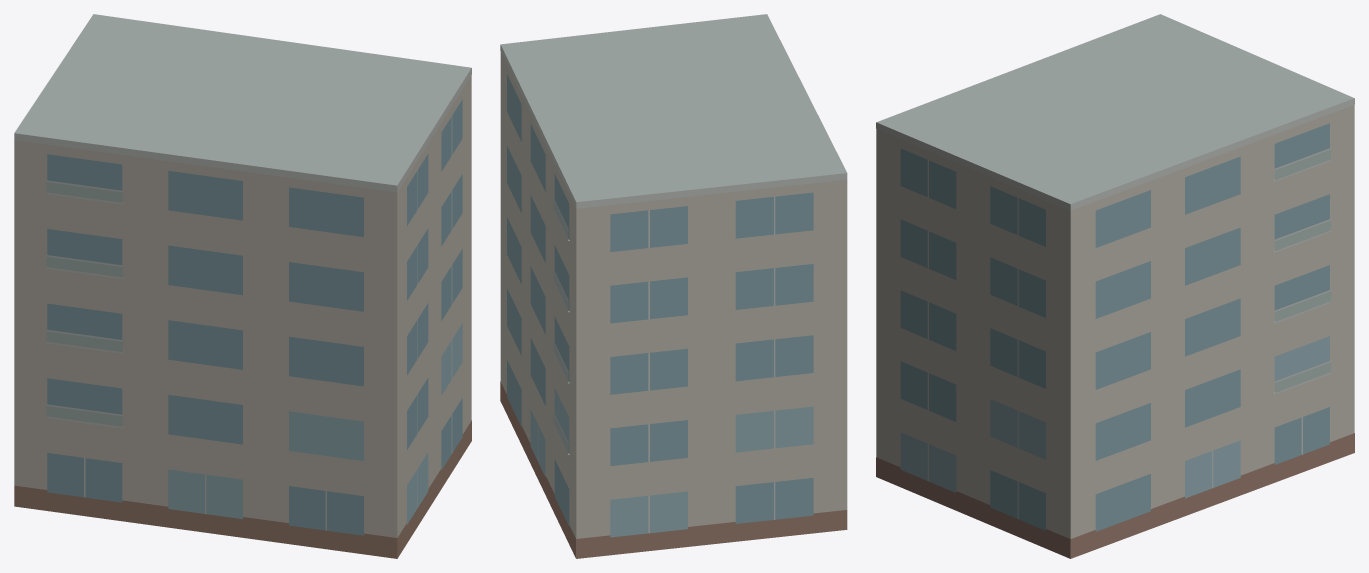
File: survey-upis-32881789.glb
The picture shows the model from 3 angles, left to right: view 1: azimuth 30°, elevation 25°; view 2: azimuth 150°, elevation 25°; view 3: azimuth 270°, elevation 25°; orthographic projection. The views are drawn at different scales.
Visible parts, largest first — view 1: survey-upis-32881789.tmp; view 2: survey-upis-32881789.tmp; view 3: survey-upis-32881789.tmp.
Part boxes in pixels (left/top/right/bottom): survey-upis-32881789.tmp: left=14, top=14, right=471, bottom=558; survey-upis-32881789.tmp: left=500, top=14, right=847, bottom=558; survey-upis-32881789.tmp: left=876, top=14, right=1354, bottom=558.
Bounding box in the file's own units: 15.19 × 13.2 × 16.15.
